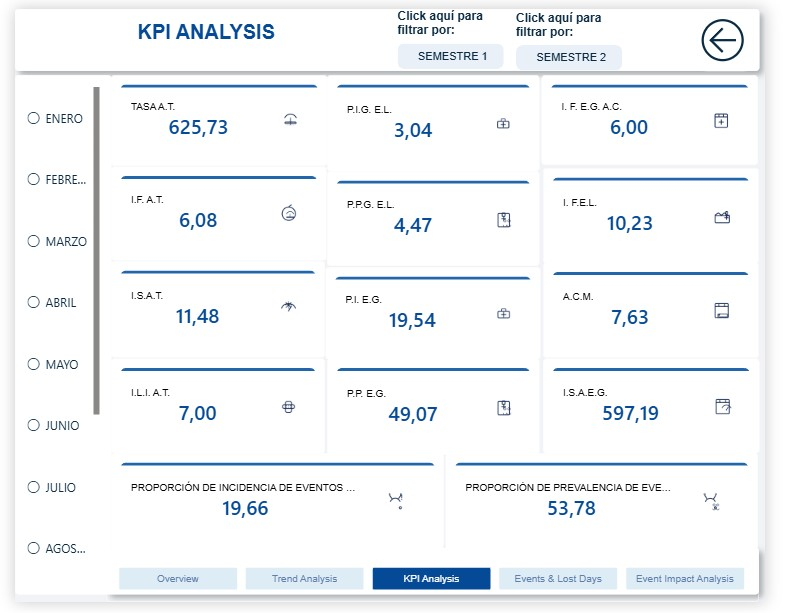

The page's visual inventory and layout, read from the dashboard file:
{"tool":"powerbi","page":{"name":"KPI Analysis","canvas":[1000,790],"ordinal":2},"visuals":[{"type":"shape","box":[122.5,717.5,870,62.5],"z":1000},{"type":"shape","box":[0,0,992.5,82.5],"z":2000},{"type":"cardVisual","fields":{"Data":["Sum(IndCausaMedica.Valor)"]},"box":[128.6,88.6,288.6,121.4],"z":4000},{"type":"listSlicer","fields":{"Values":["Tabla_Meses.MES"]},"box":[0,88.6,128.6,692.9],"z":5000},{"type":"cardVisual","fields":{"Data":["Sum(IndCausaMedica.Valor)"]},"box":[128.8,210,287.9,125.7],"z":6000},{"type":"cardVisual","fields":{"Data":["Sum(IndCausaMedica.Valor)"]},"box":[128.3,335,285,128.3],"z":7000},{"type":"cardVisual","fields":{"Data":["Sum(IndCausaMedica.Valor)"]},"box":[128.3,465,285,126.7],"z":8000},{"type":"cardVisual","fields":{"Data":["Sum(IndCausaMedica.Valor)"]},"box":[416.7,88.3,283.3,128.3],"z":9000},{"type":"cardVisual","fields":{"Data":["Sum(IndCausaMedica.Valor)"]},"box":[416.7,216.7,283.3,126.7],"z":10000},{"type":"cardVisual","fields":{"Data":["Sum(IndCausaMedica.Valor)"]},"box":[413.3,343.3,286.7,123.3],"z":11000},{"type":"cardVisual","fields":{"Data":["Sum(IndCausaMedica.Valor)"]},"box":[416.7,466.7,283.3,128.3],"z":12000},{"type":"cardVisual","fields":{"Data":["Sum(IndCausaMedica.Valor)"]},"box":[128.6,591.4,444.3,127.1],"z":13000},{"type":"cardVisual","fields":{"Data":["Sum(IndCausaMedica.Valor)"]},"box":[574.2,591.7,416.7,128.8],"z":14000},{"type":"cardVisual","fields":{"Data":["Sum(IndCausaMedica.Valor)"]},"box":[702.9,88.6,288.6,120],"z":15000},{"type":"cardVisual","fields":{"Data":["Sum(IndCausaMedica.Valor)"]},"box":[703.1,211.6,287.9,127.2],"z":16000},{"type":"cardVisual","fields":{"Data":["Sum(IndCausaMedica.Valor)"]},"box":[703.1,338.8,287.9,127.2],"z":17000},{"type":"cardVisual","fields":{"Data":["Sum(IndCausaMedica.Valor)"]},"box":[703.3,466.7,288.3,126.7],"z":18000},{"type":"textbox","box":[0,0,510,80],"z":20000},{"type":"pageNavigator","box":[122.5,727.5,870,62.5],"z":21000},{"type":"actionButton","title":"Click aquí para filtrar por:","box":[510,0,141.7,80],"z":22000},{"type":"actionButton","title":"Click aquí para filtrar por:","box":[667.5,2.5,141.7,80],"z":23000},{"type":"actionButton","box":[902.5,0,90,83.3],"z":24000}]}

Visuals, with their boxes in screenshot pixels (x1, y1, x2, y2), scaled from the page's 1000x790 canvas onto the 792x613 screenshot:
shape: (97,557,786,605)
shape: (0,0,786,64)
cardVisual - Sum(IndCausaMedica.Valor): (102,69,330,163)
listSlicer - Tabla_Meses.MES: (0,69,102,606)
cardVisual - Sum(IndCausaMedica.Valor): (102,163,330,260)
cardVisual - Sum(IndCausaMedica.Valor): (102,260,327,359)
cardVisual - Sum(IndCausaMedica.Valor): (102,361,327,459)
cardVisual - Sum(IndCausaMedica.Valor): (330,69,554,168)
cardVisual - Sum(IndCausaMedica.Valor): (330,168,554,266)
cardVisual - Sum(IndCausaMedica.Valor): (327,266,554,362)
cardVisual - Sum(IndCausaMedica.Valor): (330,362,554,462)
cardVisual - Sum(IndCausaMedica.Valor): (102,459,454,558)
cardVisual - Sum(IndCausaMedica.Valor): (455,459,785,559)
cardVisual - Sum(IndCausaMedica.Valor): (557,69,785,162)
cardVisual - Sum(IndCausaMedica.Valor): (557,164,785,263)
cardVisual - Sum(IndCausaMedica.Valor): (557,263,785,362)
cardVisual - Sum(IndCausaMedica.Valor): (557,362,785,460)
textbox: (0,0,404,62)
pageNavigator: (97,565,786,612)
"Click aquí para filtrar por:" actionButton: (404,0,516,62)
"Click aquí para filtrar por:" actionButton: (529,2,641,64)
actionButton: (715,0,786,65)
